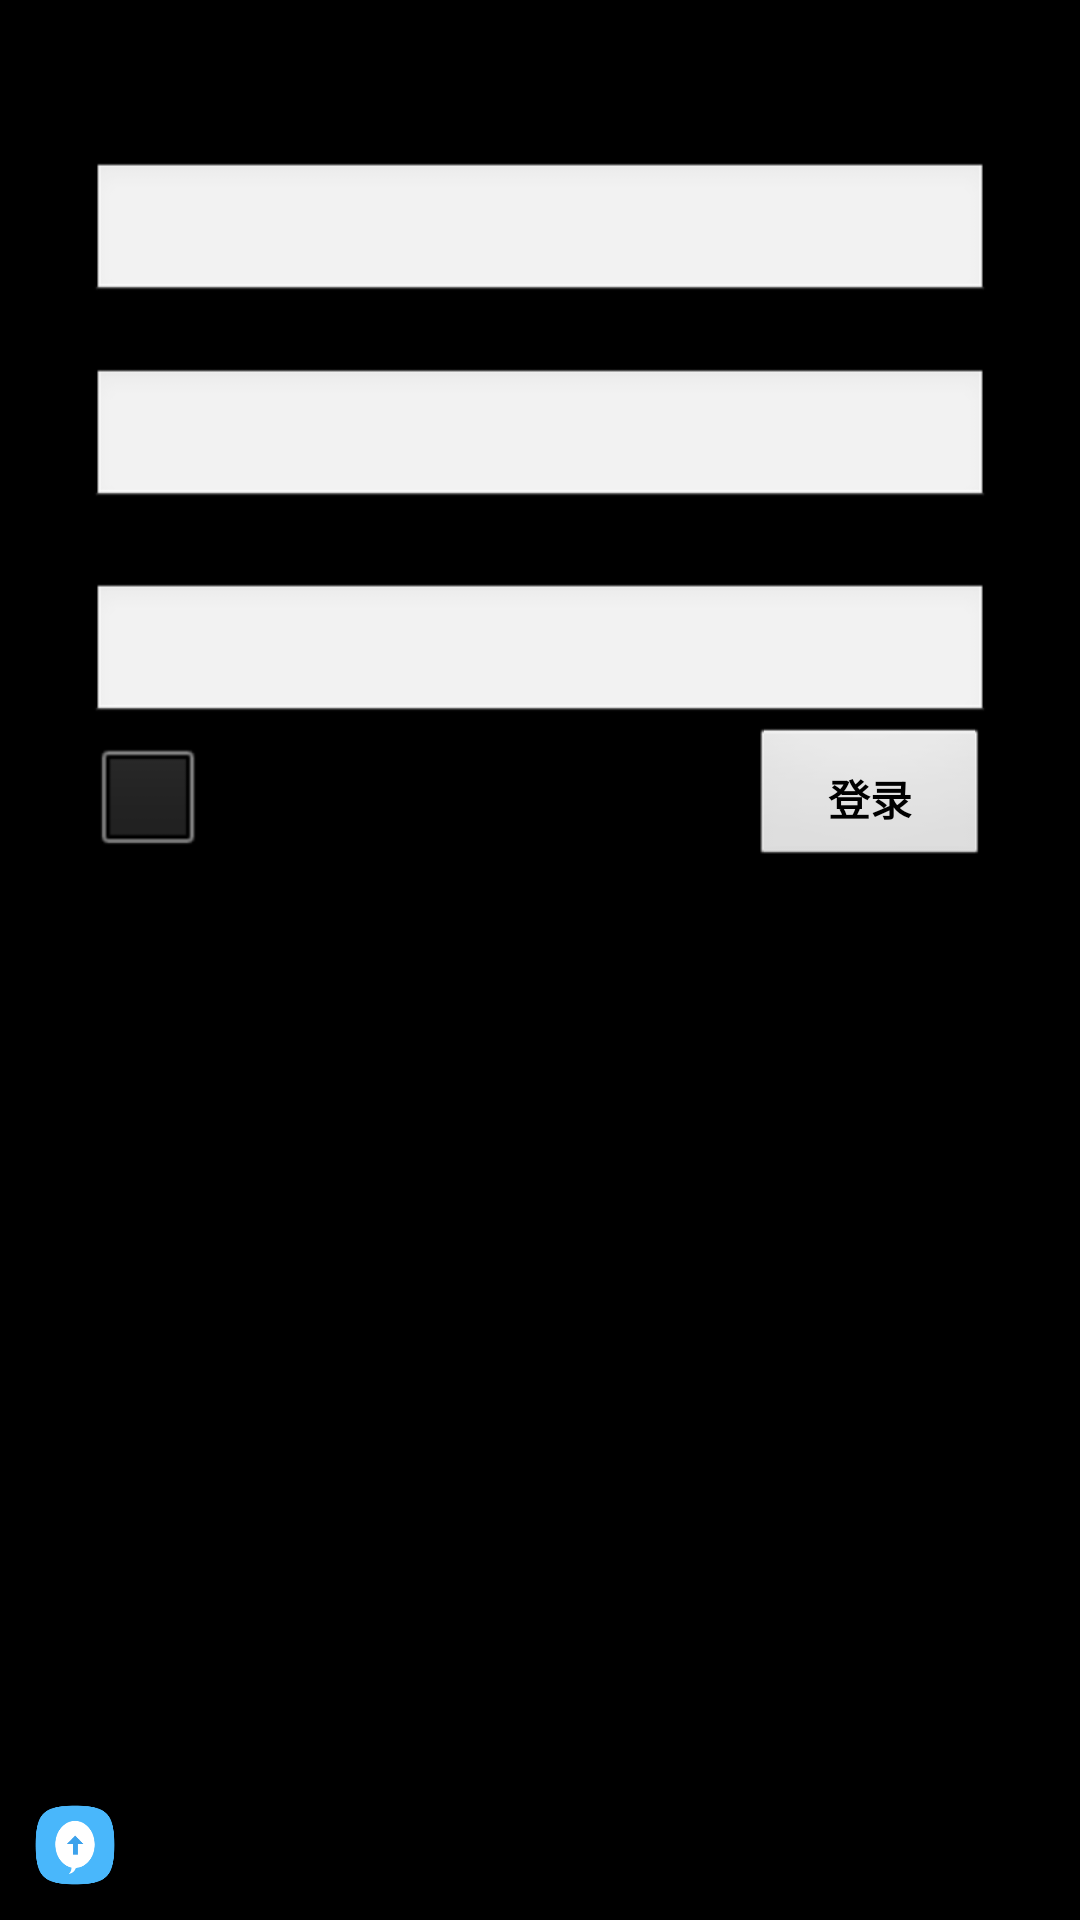

Where icons sit on this 1080×1920 app screen, as BBox(x1, y1, x2, y2):
update: BBox(35, 1805, 115, 1885)
